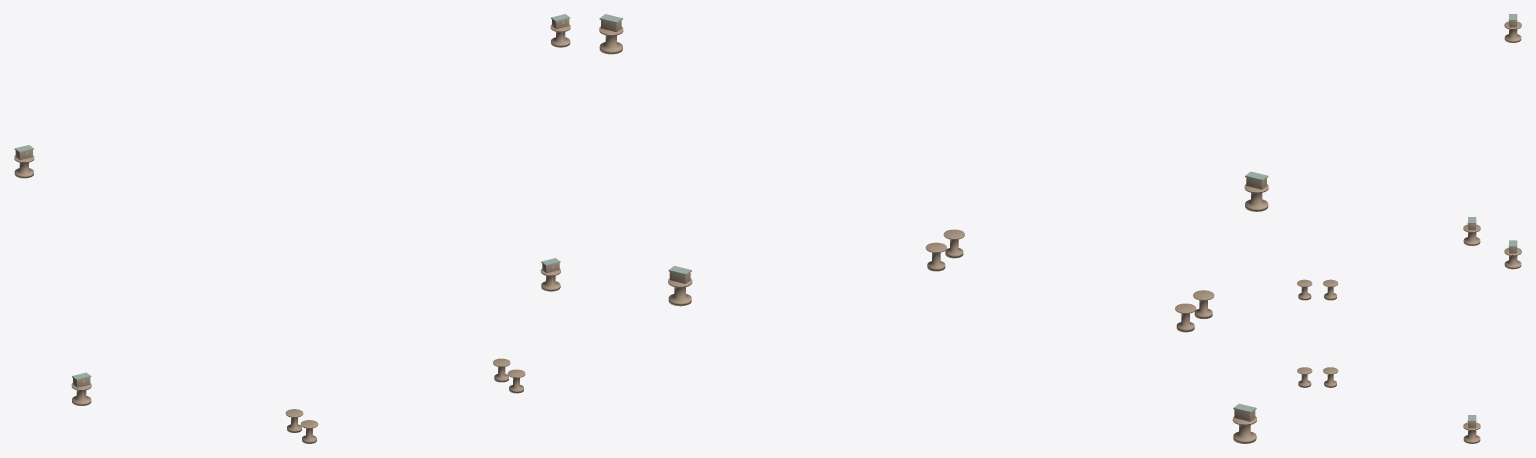
The model's file is delivery_stations.glb.
3 views of the same model, side by side, from view 1: azimuth 30°, elevation 25°; view 2: azimuth 150°, elevation 25°; view 3: azimuth 270°, elevation 25° (orthographic). The views are drawn at different scales.
Parts seen in each view (by area): view 1: no part large enough to name; view 2: no part large enough to name; view 3: Parcel_Source_Stand_1, Parcel_Source_Stand_0, Parcel_Source_Stand_2, Parcel_Source_Stand_3, Reception_Shelf_2, Reception_Shelf_0, Reception_Shelf_3, Reception_Shelf_1.
Part boxes in pixels (x1=…): Parcel_Source_Stand_1: x1=1504, y1=247, x2=1521, y2=269; Parcel_Source_Stand_0: x1=1504, y1=21, x2=1521, y2=42; Parcel_Source_Stand_2: x1=1463, y1=224, x2=1480, y2=245; Parcel_Source_Stand_3: x1=1463, y1=422, x2=1480, y2=443; Reception_Shelf_2: x1=1297, y1=279, x2=1312, y2=300; Reception_Shelf_0: x1=1323, y1=279, x2=1338, y2=300; Reception_Shelf_3: x1=1297, y1=367, x2=1312, y2=387; Reception_Shelf_1: x1=1323, y1=367, x2=1338, y2=387.
Bounding box in the file's own units: 7.27 × 3.07 × 2.96.
